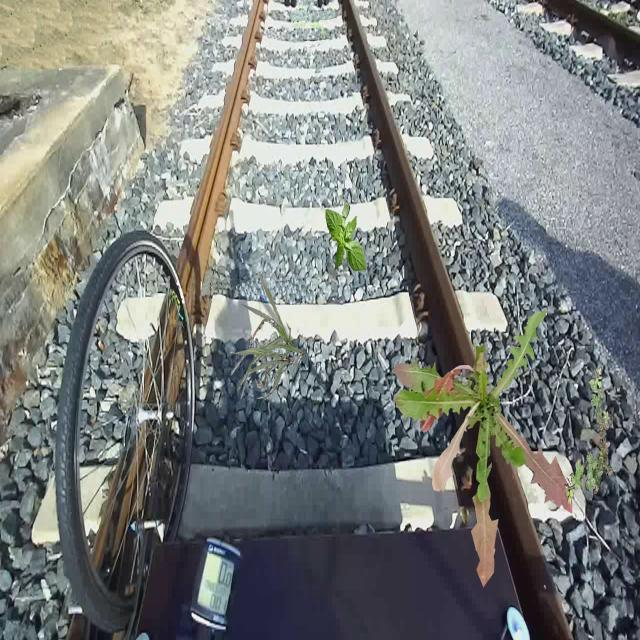Plant: (393, 310, 573, 588), (231, 274, 304, 398), (564, 367, 612, 505), (325, 203, 367, 274)
